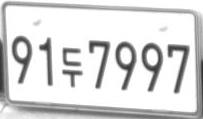1: (37, 36, 58, 86)
7: (88, 39, 110, 88), (167, 44, 189, 93)
9: (114, 40, 137, 90), (141, 42, 164, 91), (11, 34, 32, 84)
두: (62, 47, 83, 87)
